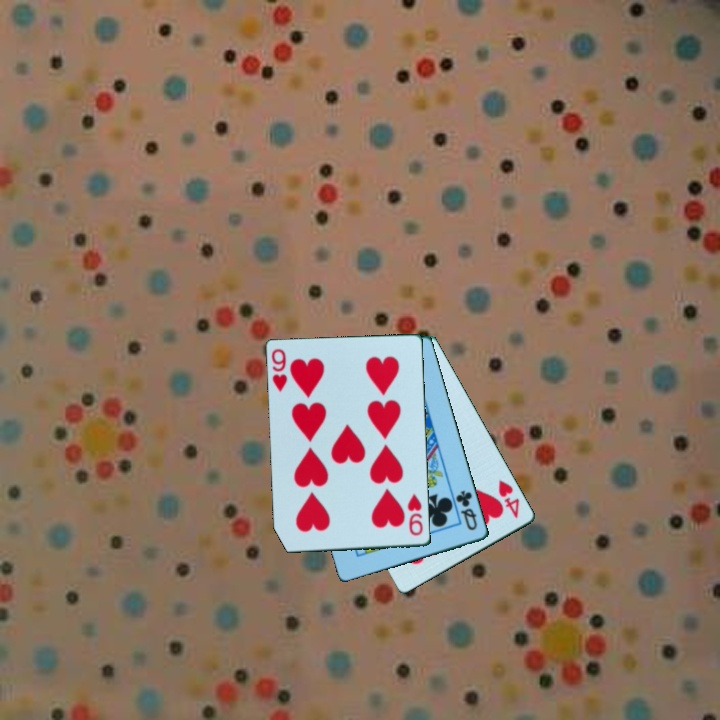4h: (495, 476, 523, 522)
9h: (268, 345, 290, 395), (404, 490, 426, 538)
Qc: (453, 487, 481, 534)
